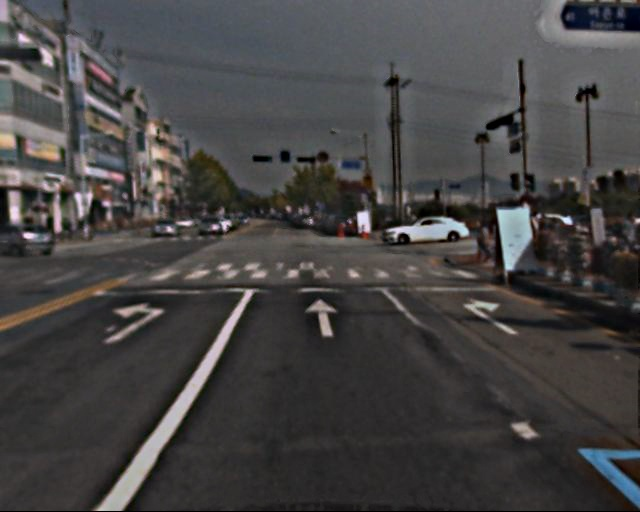person: (602, 212, 639, 258), (473, 221, 494, 265)
